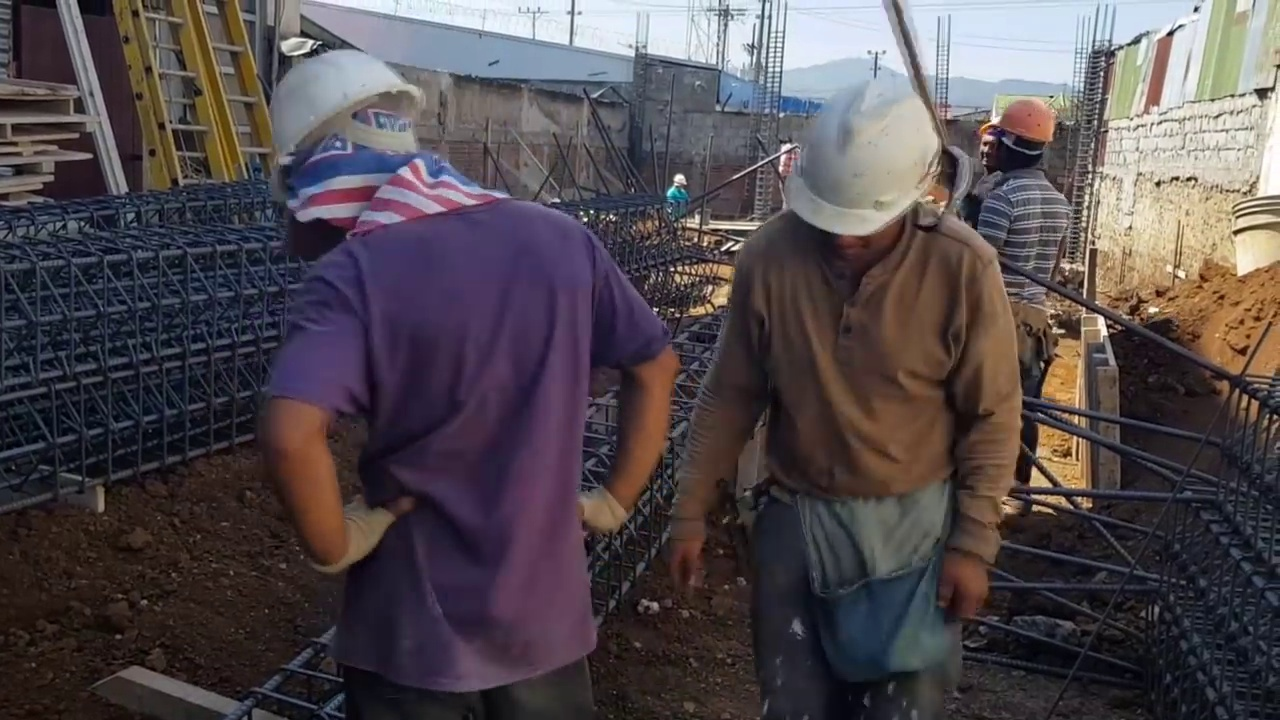helmet: (785, 72, 943, 240), (262, 34, 434, 188), (991, 93, 1065, 149), (671, 176, 687, 185)
helmet-on: (260, 36, 435, 252), (784, 78, 949, 292), (986, 96, 1066, 171), (672, 175, 688, 191)
person: (227, 53, 652, 716), (668, 44, 1011, 720), (975, 96, 1071, 515), (662, 175, 689, 222)
